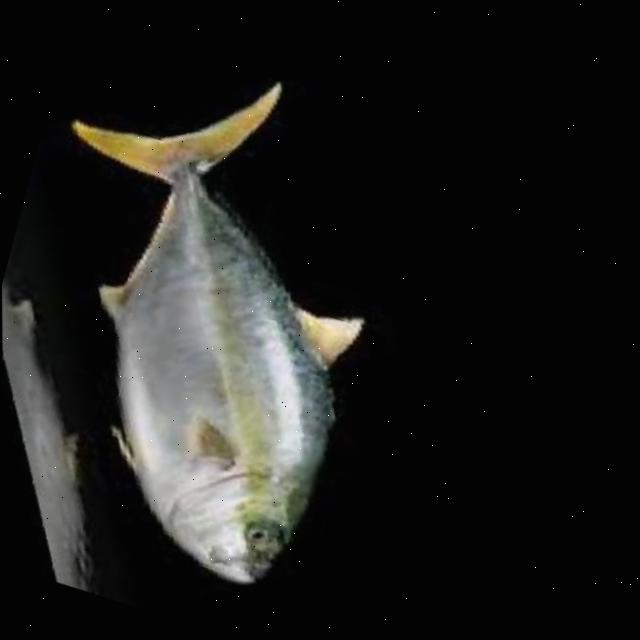Kingfish: (0, 16, 427, 608)
